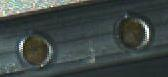joints: (113, 12, 152, 51), (17, 30, 54, 68)
